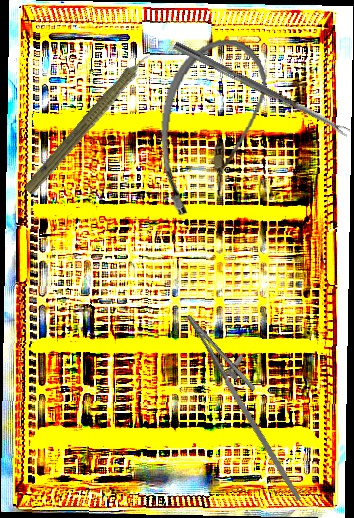Cannula: (150, 32, 273, 225)
Handpiece: (20, 38, 166, 201)
Needle Holder: (164, 303, 336, 502)
Surgical Spoon: (172, 41, 351, 138)
